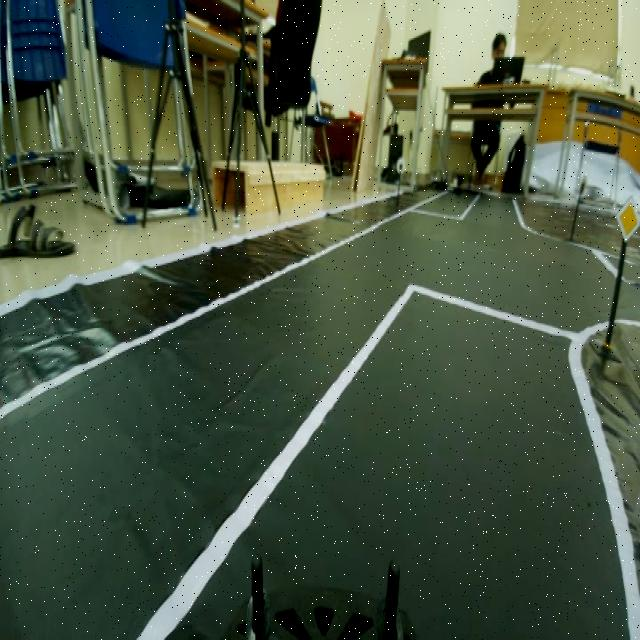priority: (612, 194, 640, 251)
